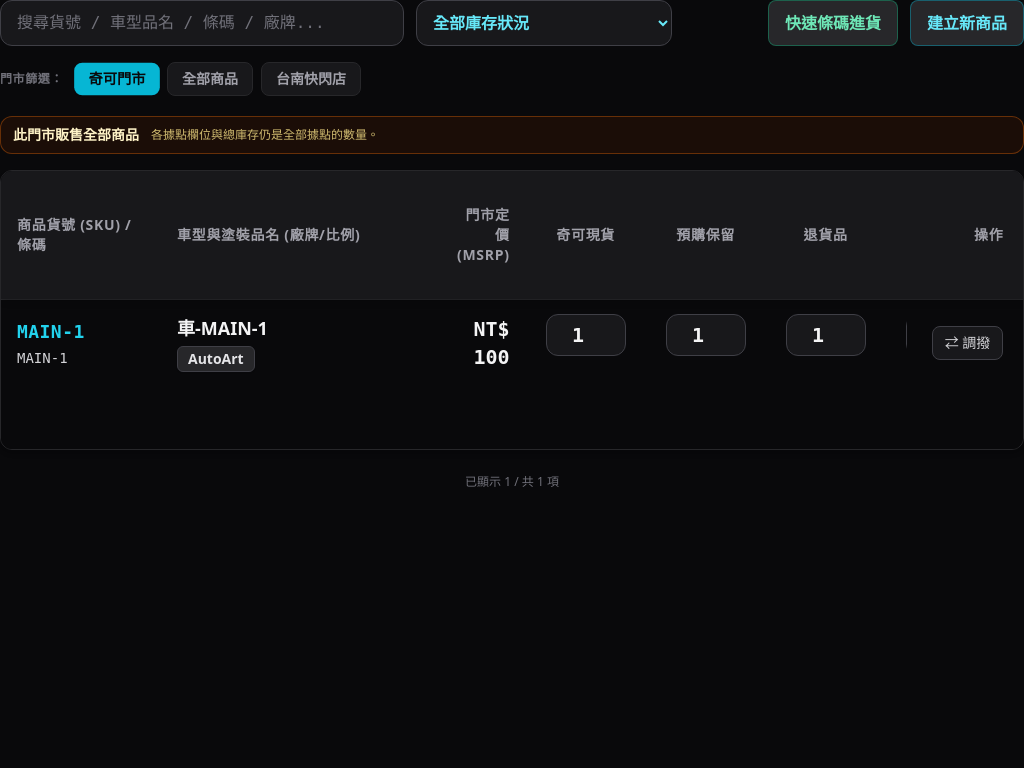
Scenario: inventory page store filter › switches products, location order, labels and restock to another store
Check: the text "車-MAIN-1" is shown, box [177, 316, 268, 340]
Click the button "台南快閃店" at (311, 79), box [261, 62, 361, 96]
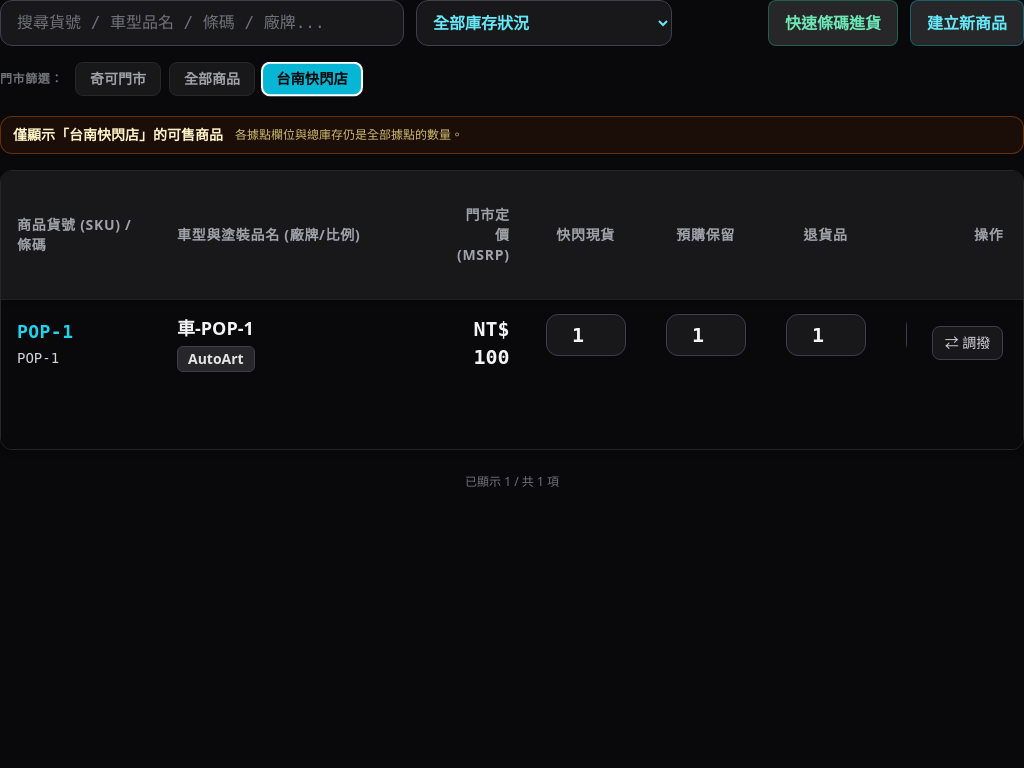
Check: the text "車-POP-1" is shown, box [177, 316, 254, 340]
Check: the message with test id "store-product-scope-hint" shows "僅顯示「台南快閃店」的可售商品", box [13, 125, 223, 144]
門市低庫存篩選也跟著所選門市。
Select "⚠️ 門市現貨低庫存 (≤ 2 台)" in the dropdown at (544, 23), box [416, 0, 672, 46]
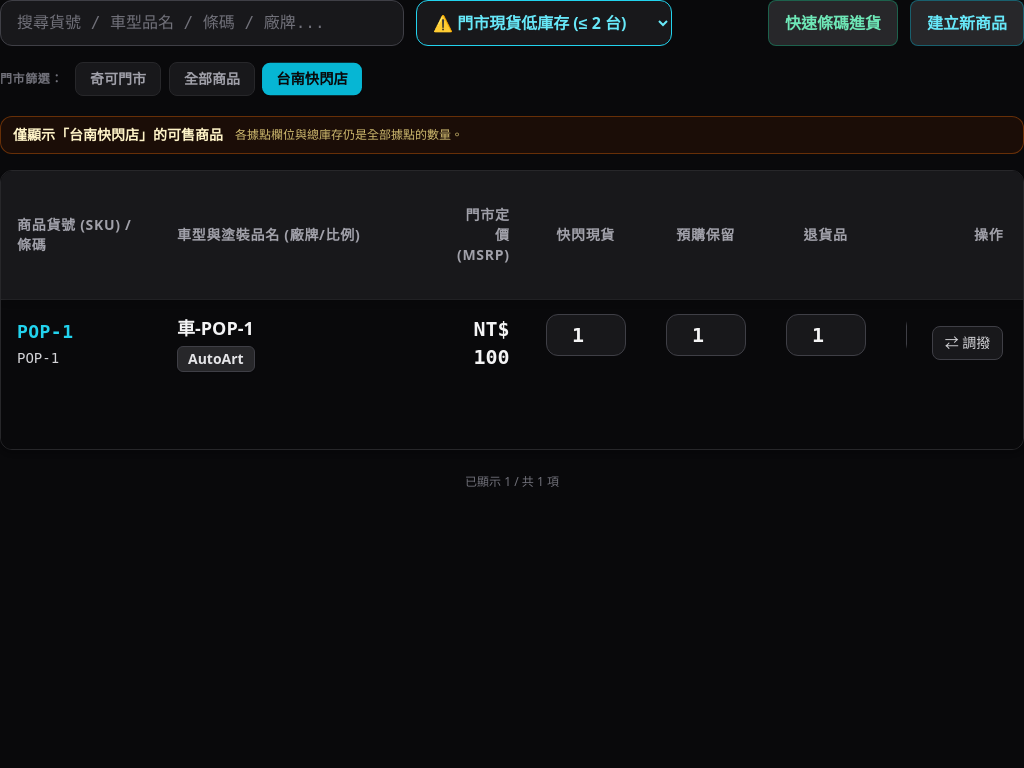
Click the button "快速條碼進貨" at (833, 23), box [768, 0, 898, 46]
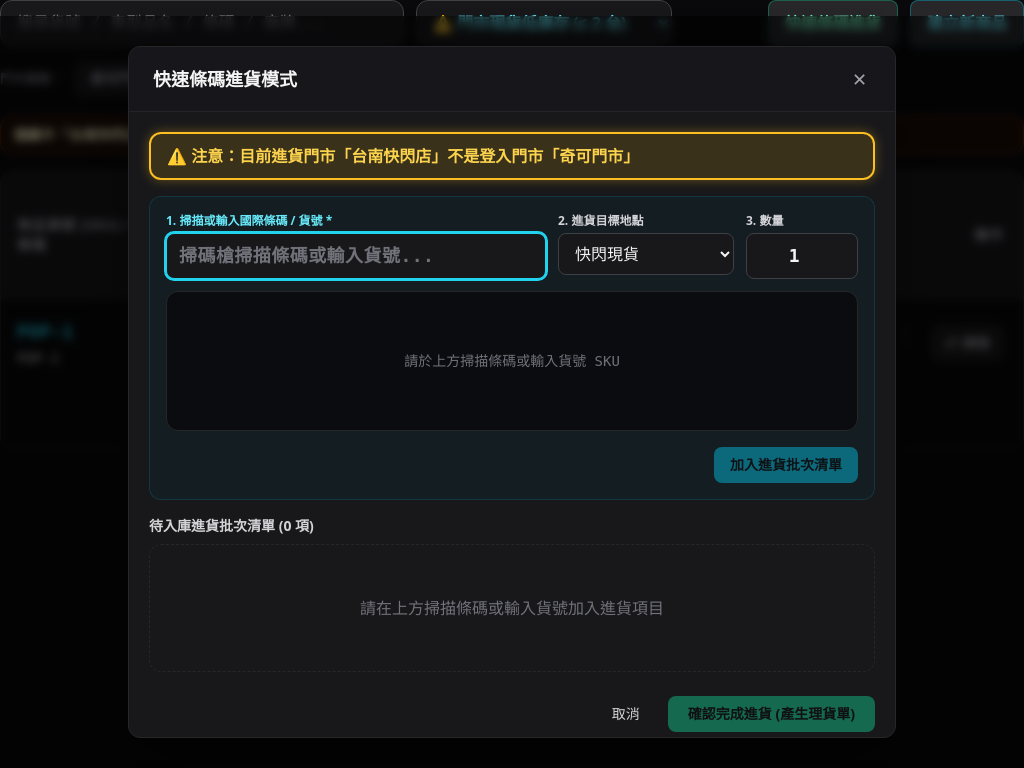
Check: the message with test id "restock-other-store-warning" shows "注意：目前進貨門市「台南快閃店」不是登入門市「奇可門市」", box [191, 145, 639, 167]
Check: the dropdown shows "快閃現貨", box [558, 233, 734, 275]
